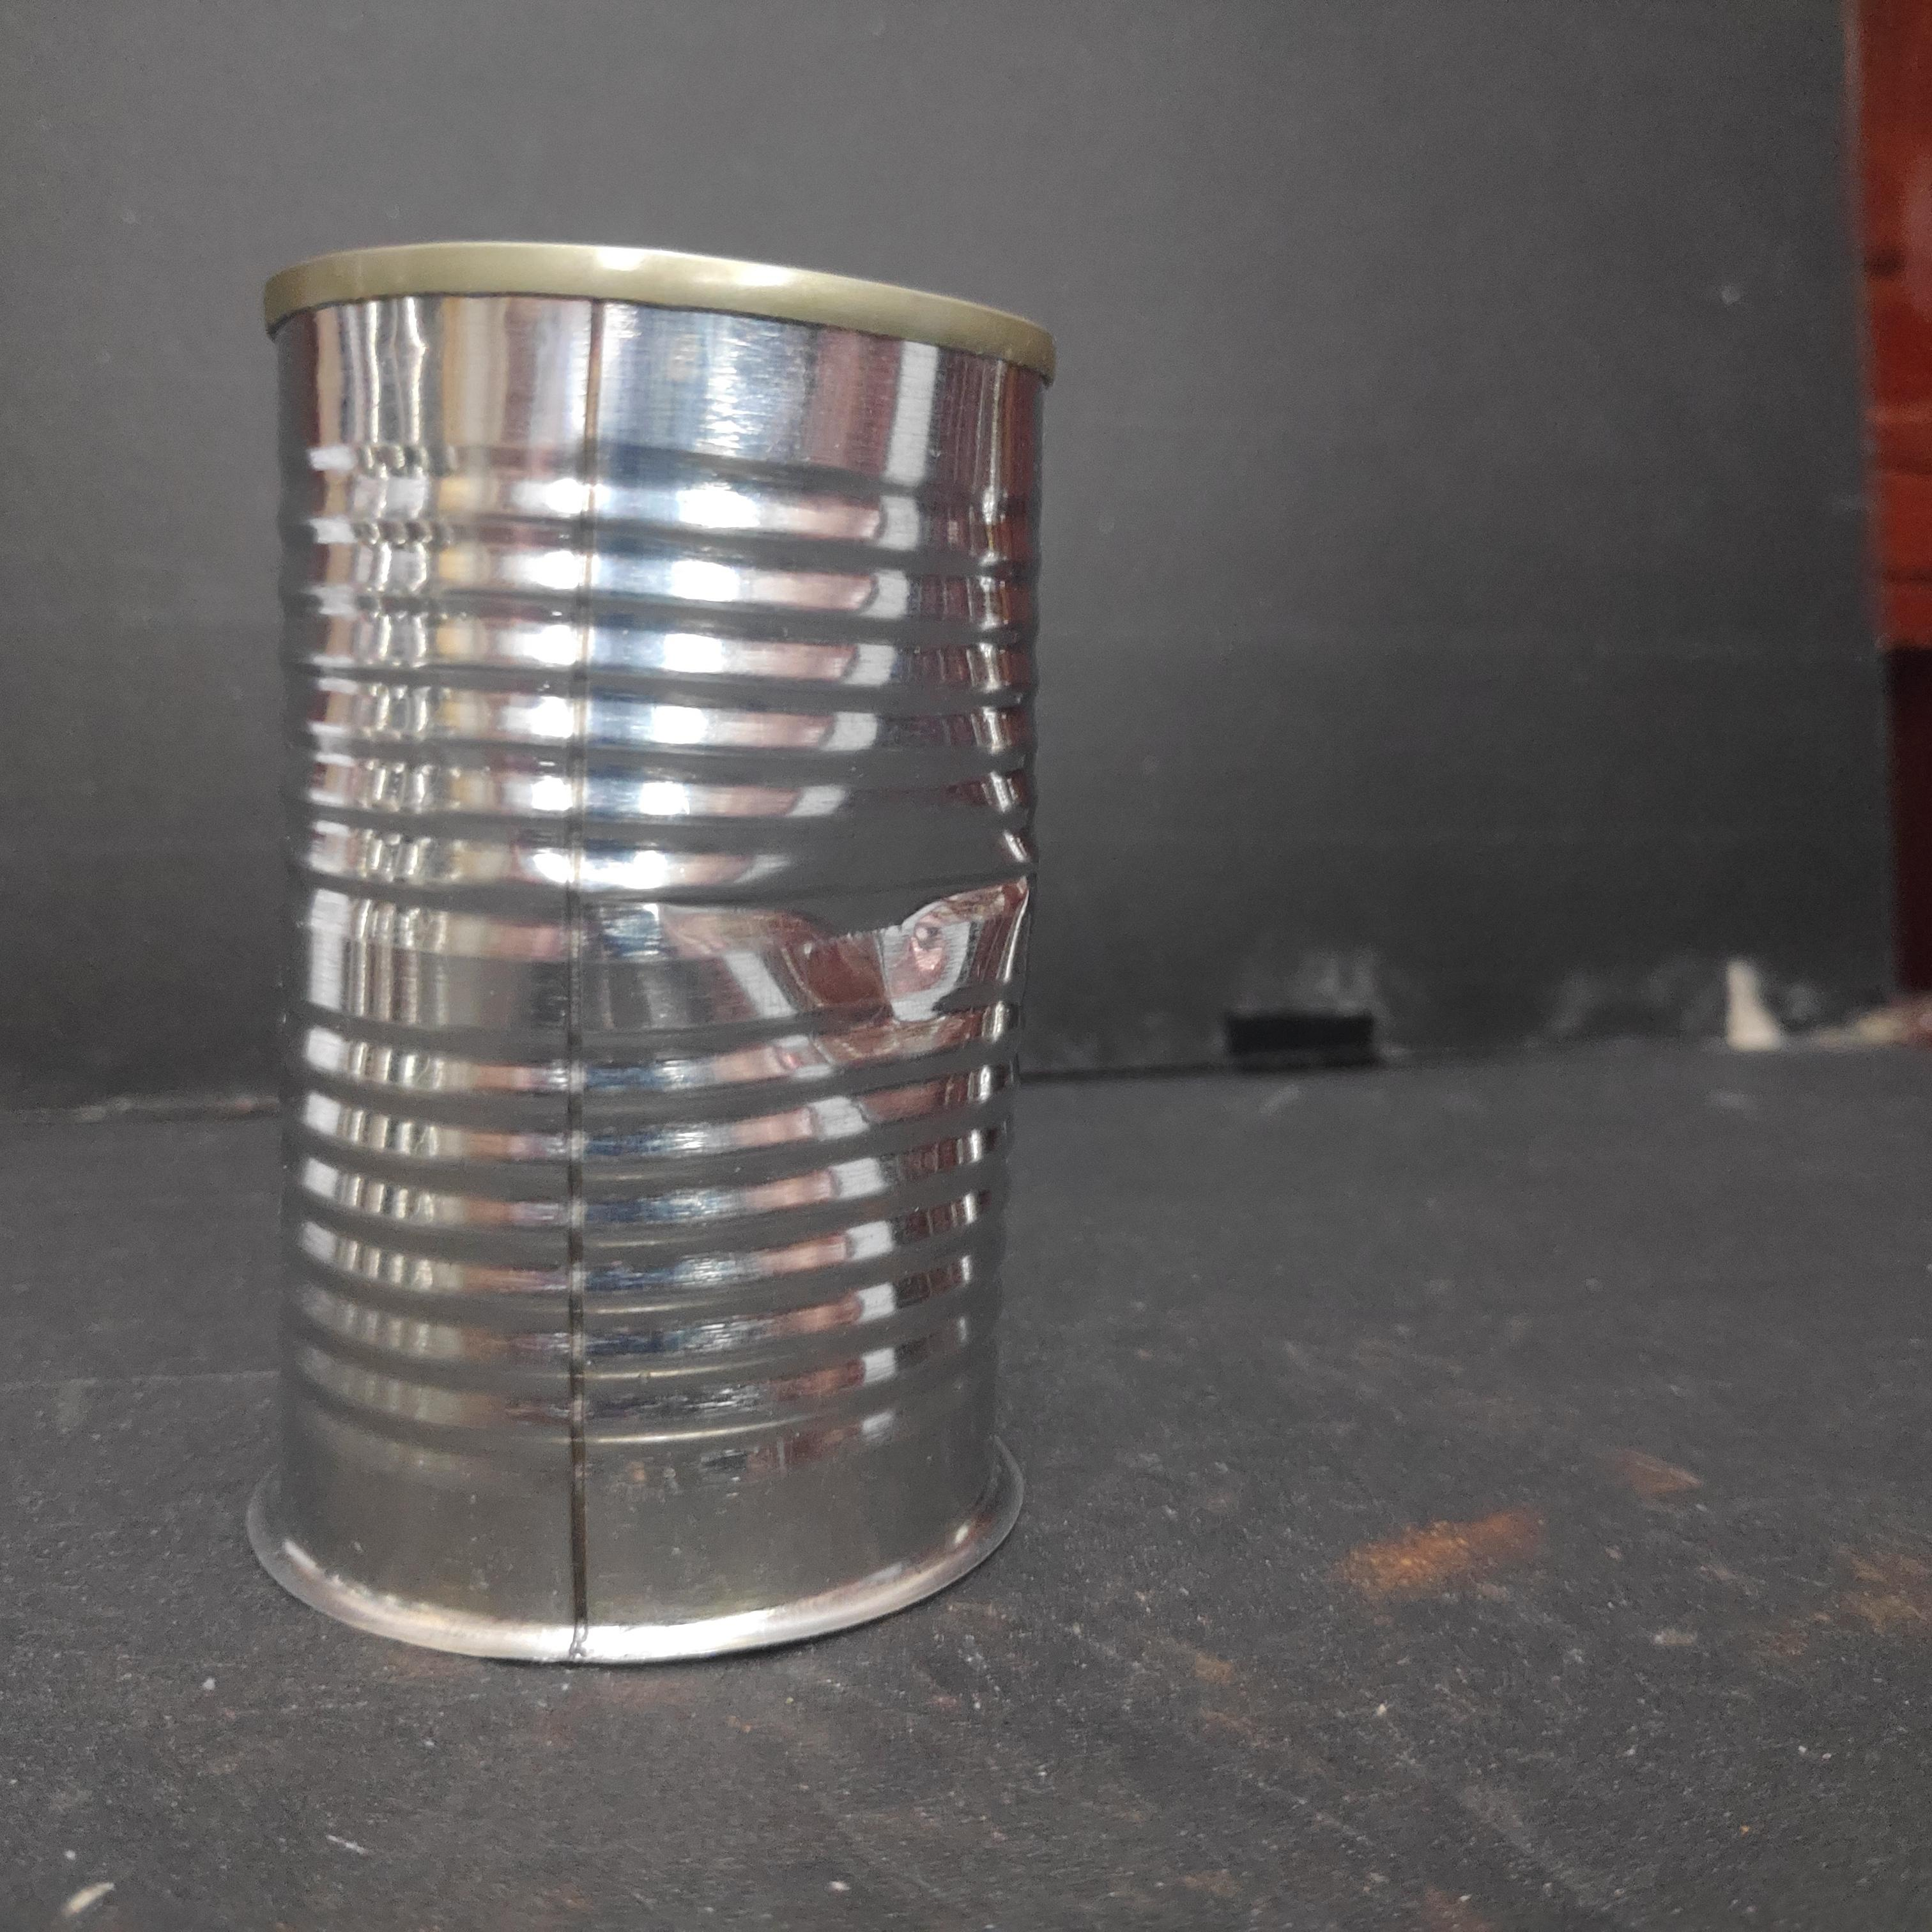Minor Defect: (250, 231, 1068, 1695)
